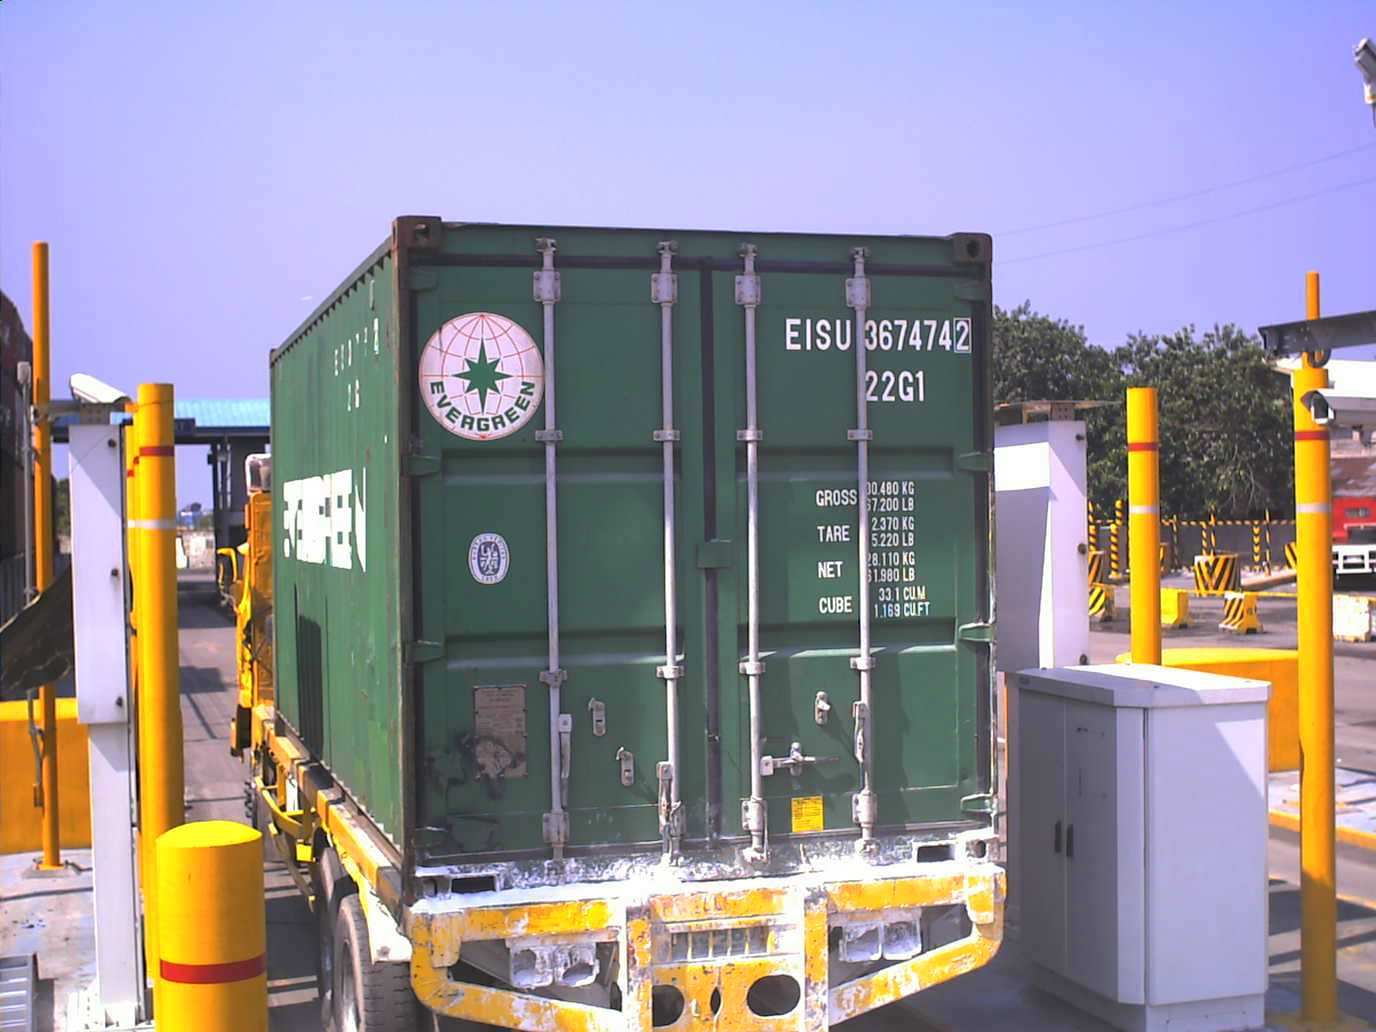container_door: (391, 209, 987, 923)
